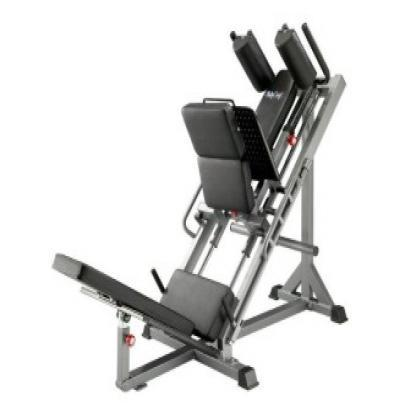leg press: (44, 10, 383, 396)
